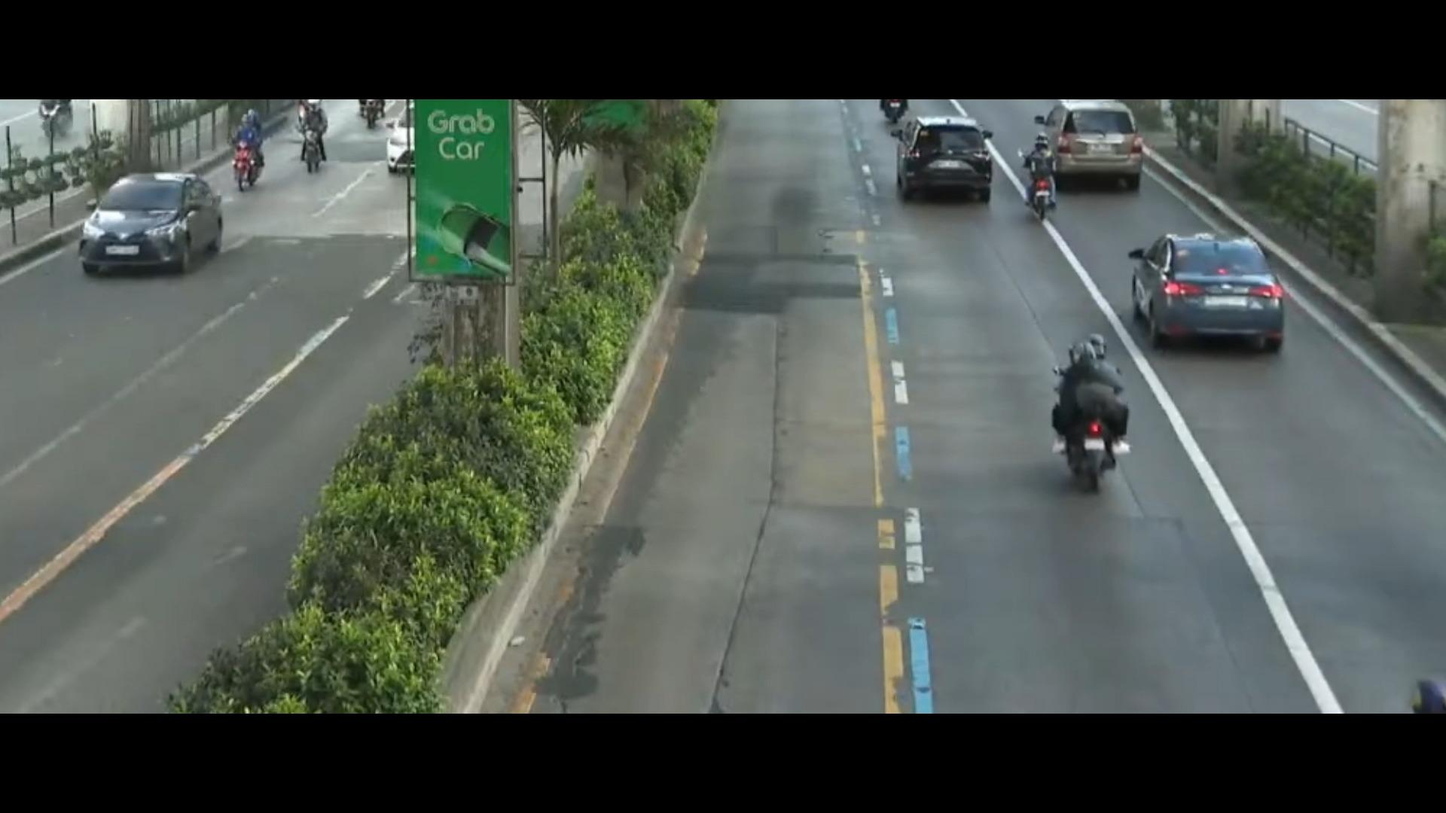Motorcycle: (1025, 332, 1147, 496), (1012, 115, 1079, 220), (281, 104, 349, 182), (233, 104, 283, 188)
SUV: (875, 98, 1004, 227), (1048, 93, 1139, 181)
Sedan: (1132, 217, 1322, 357), (39, 170, 236, 273)
